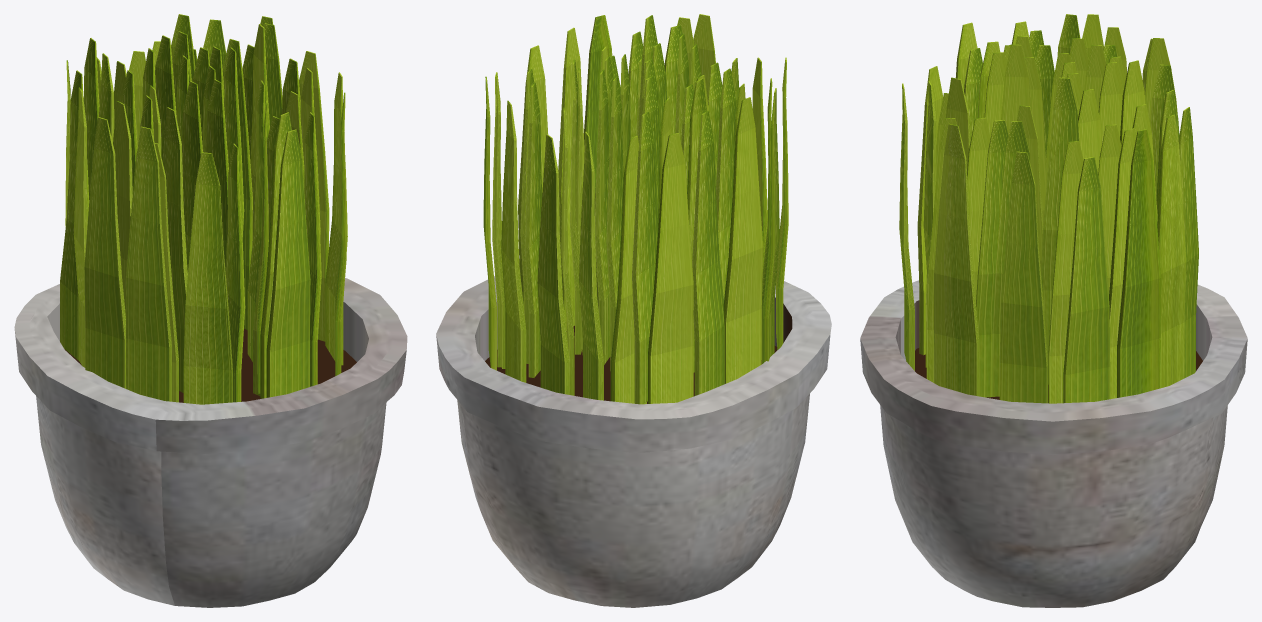
The model's file is Planta.fbx.
The picture shows the model from 3 angles, left to right: view 1: azimuth 30°, elevation 25°; view 2: azimuth 150°, elevation 25°; view 3: azimuth 270°, elevation 25°; orthographic projection.
Visible parts, largest first — view 1: Cube, Cube.030, Cube.032, Cube.048, Cube.028, Cube.033, Cube.013, Cube.045, Cube.003, Cube.012, Cube.027, Cube.004 (+28 smaller); view 2: Cube, Cube.025, Cube.027, Cube.045, Cube.038, Cube.047, Cube.008, Cube.036, Cube.017, Cube.009, Cube.041, Cube.016 (+27 smaller); view 3: Cube, Cube.001, Cube.003, Cube.006, Cube.004, Cube.008, Cube.011, Cube.005, Cube.010, Cube.038, Cube.007, Cube.002 (+28 smaller).
Part boxes in pixels (<box>): Cube: <box>14,278,407,607</box>; Cube.030: <box>126,126,171,401</box>; Cube.032: <box>183,152,232,404</box>; Cube.048: <box>266,129,310,397</box>; Cube.028: <box>84,117,125,388</box>; Cube.033: <box>162,107,187,392</box>; Cube.013: <box>226,143,245,402</box>; Cube.045: <box>60,70,89,361</box>; Cube.003: <box>325,72,347,365</box>; Cube.012: <box>304,112,321,386</box>; Cube.027: <box>73,87,87,367</box>; Cube.004: <box>299,51,329,341</box>; Cube: <box>436,276,831,607</box>; Cube.025: <box>648,133,693,403</box>; Cube.027: <box>723,97,763,383</box>; Cube.045: <box>692,110,724,395</box>; Cube.038: <box>537,134,569,394</box>; Cube.047: <box>632,111,658,404</box>; Cube.008: <box>501,100,526,382</box>; Cube.036: <box>610,136,646,404</box>; Cube.017: <box>579,131,603,400</box>; Cube.009: <box>524,82,542,377</box>; Cube.041: <box>595,69,610,364</box>; Cube.016: <box>606,76,623,370</box>; Cube: <box>860,280,1247,607</box>; Cube.001: <box>934,123,979,396</box>; Cube.003: <box>999,151,1047,403</box>; Cube.006: <box>1117,129,1161,397</box>; Cube.004: <box>1063,157,1110,403</box>; Cube.008: <box>1157,114,1186,387</box>; Cube.011: <box>976,120,1008,397</box>; Cube.005: <box>1048,141,1083,403</box>; Cube.010: <box>1041,77,1079,353</box>; Cube.038: <box>1178,107,1198,377</box>; Cube.007: <box>1109,128,1136,399</box>; Cube.002: <box>992,121,1030,396</box>.
Bounding box in the file's own units: 317 × 472 × 324.
Materials: 2 (2 with a texture image).
